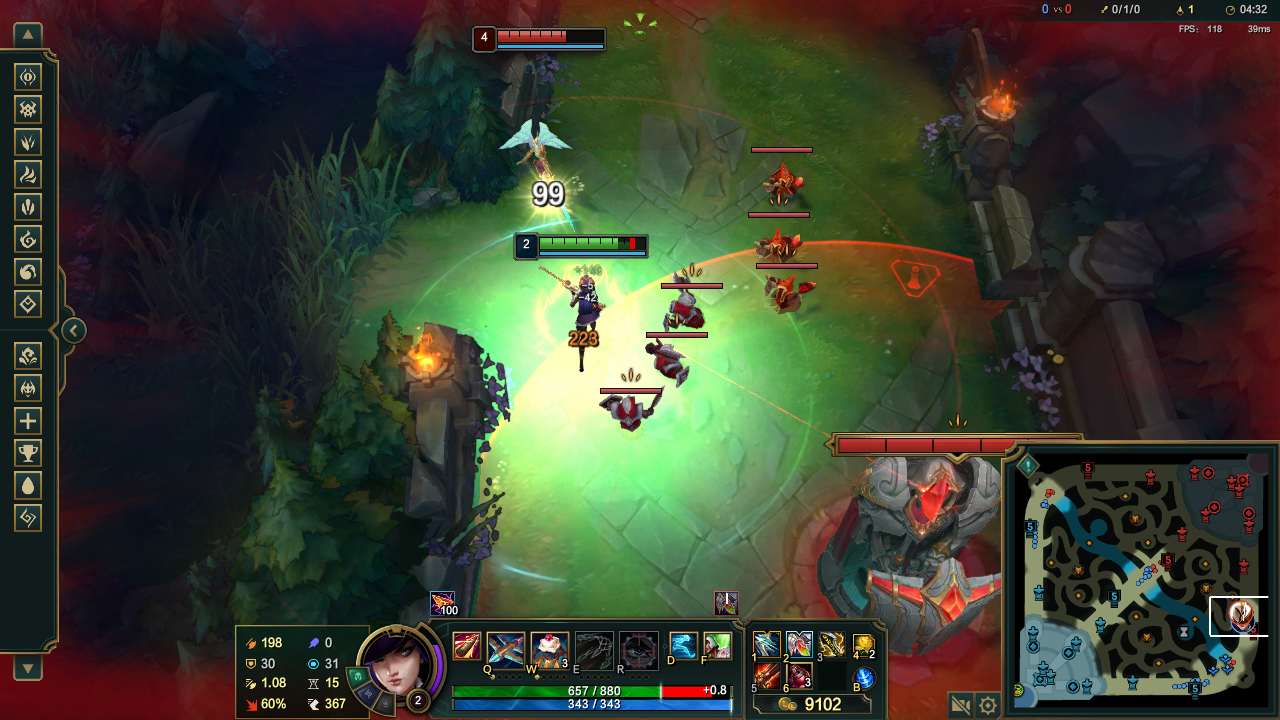DFFYT: (809, 430, 1004, 665)
DFYX: (494, 29, 603, 47)
